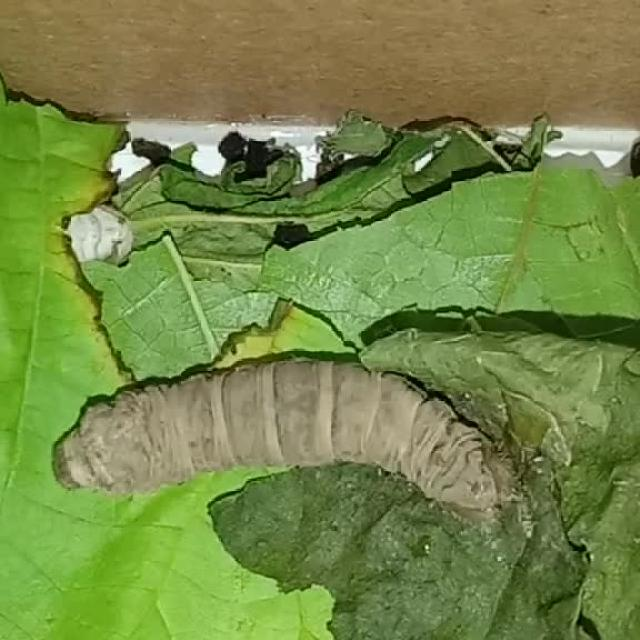Grasserie: (38, 294, 537, 582)
